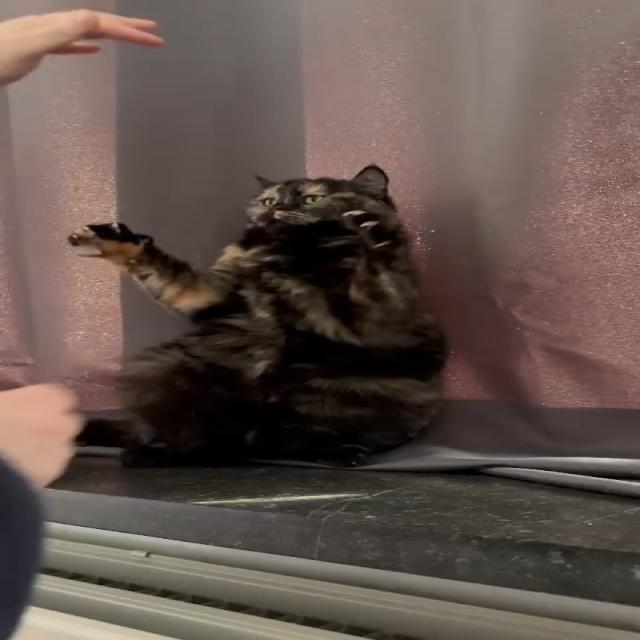authorized: (66, 163, 450, 469)
